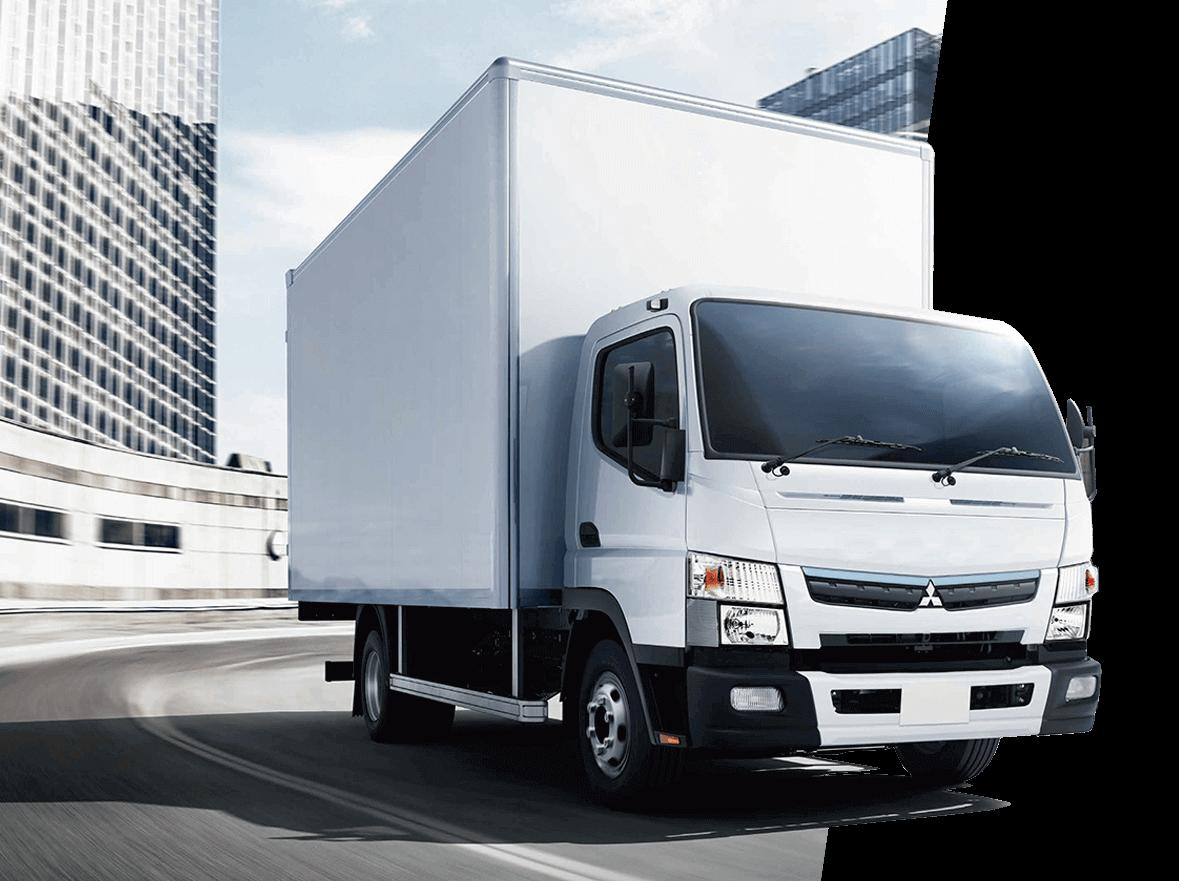truck: (284, 54, 1110, 811)
